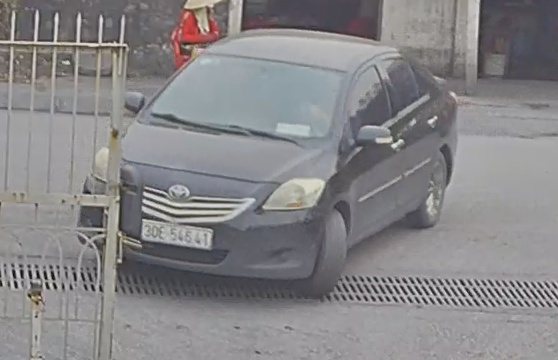vehicle plate: (139, 216, 212, 247)
